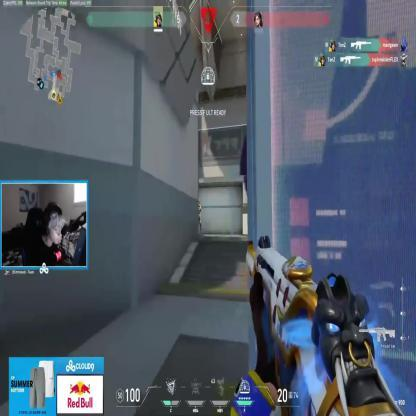enemy: (193, 198, 202, 234)
enemy_head: (197, 200, 200, 206)
